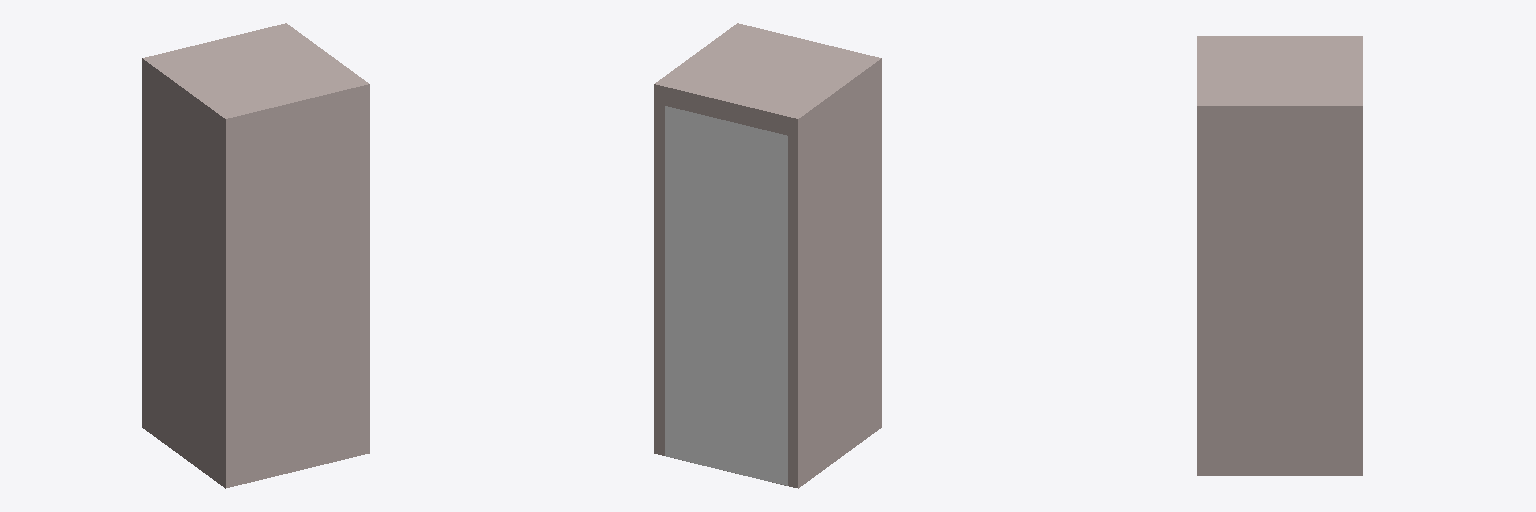
The picture shows the model from 3 angles: view 1: azimuth 30°, elevation 25°; view 2: azimuth 150°, elevation 25°; view 3: azimuth 270°, elevation 25°; orthographic projection.
Parts seen in each view (by area): view 1: pCube13; view 2: pCube13; view 3: pCube13.
Part boxes in pixels (x1,y1,x2,y2): pCube13: (142,23,369,488); pCube13: (654,23,881,488); pCube13: (1197,36,1362,475).
Size of the model in its own units: 78.07 by 191 by 78.07.
1 materials, 1 textured.